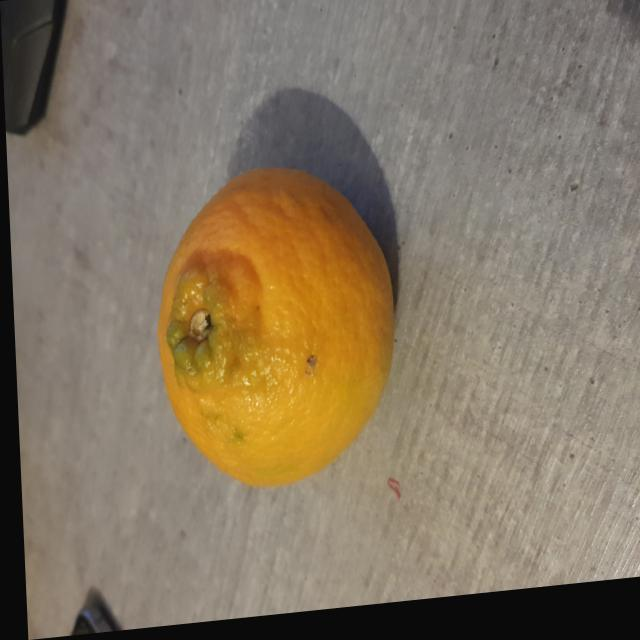Orange: (154, 171, 393, 494), (155, 171, 393, 494)
